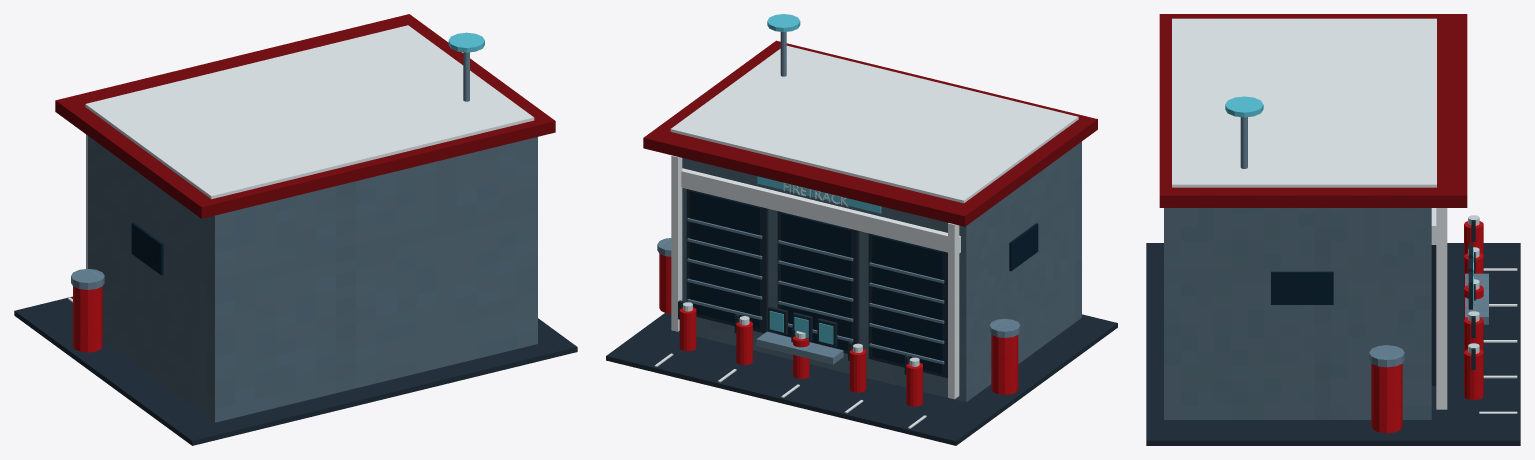
The model's file is firetrack-station.glb.
3 views of the same model, side by side, from view 1: azimuth 30°, elevation 25°; view 2: azimuth 150°, elevation 25°; view 3: azimuth 270°, elevation 25° (orthographic). The views are drawn at different scales.
Visible parts, largest first — view 1: ConcreteHall, Batch_FireTrack_ROOT_JD_white, RedCanopy, Batch_FireTrack_ROOT_JD_dark, Batch_FireTrack_ROOT_JD_red_bright, Batch_FireTrack_ROOT_JD_glass, Batch_FireTrack_ROOT_JD_silver, Batch_FireTrack_ROOT_JD_cyan; view 2: Batch_FireTrack_ROOT_JD_white, ConcreteHall, Batch_FireTrack_ROOT_JD_dark, Batch_FireTrack_ROOT_JD_glass, RedCanopy, Batch_FireTrack_ROOT_JD_silver, Batch_FireTrack_ROOT_JD_red_bright, Batch_FireTrack_ROOT_JD_cyan, DigitalSignScreen; view 3: ConcreteHall, Batch_FireTrack_ROOT_JD_white, Batch_FireTrack_ROOT_JD_dark, RedCanopy, Batch_FireTrack_ROOT_JD_red_bright, Batch_FireTrack_ROOT_JD_glass, Batch_FireTrack_ROOT_JD_silver, Batch_FireTrack_ROOT_JD_cyan, Batch_FireTrack_ROOT_JD_chrome.
Part boxes in pixels (bbox=[...]): ConcreteHall: bbox=[88, 136, 537, 422]; Batch_FireTrack_ROOT_JD_white: bbox=[68, 25, 534, 302]; RedCanopy: bbox=[55, 14, 555, 218]; Batch_FireTrack_ROOT_JD_dark: bbox=[14, 296, 577, 445]; Batch_FireTrack_ROOT_JD_red_bright: bbox=[73, 286, 102, 352]; Batch_FireTrack_ROOT_JD_glass: bbox=[131, 223, 163, 275]; Batch_FireTrack_ROOT_JD_silver: bbox=[71, 52, 469, 289]; Batch_FireTrack_ROOT_JD_cyan: bbox=[448, 32, 484, 52]; Batch_FireTrack_ROOT_JD_white: bbox=[654, 45, 1078, 428]; ConcreteHall: bbox=[678, 141, 1081, 402]; Batch_FireTrack_ROOT_JD_dark: bbox=[606, 189, 1117, 445]; Batch_FireTrack_ROOT_JD_glass: bbox=[690, 190, 1038, 373]; RedCanopy: bbox=[643, 40, 1097, 226]; Batch_FireTrack_ROOT_JD_silver: bbox=[657, 32, 1020, 364]; Batch_FireTrack_ROOT_JD_red_bright: bbox=[659, 254, 1018, 406]; Batch_FireTrack_ROOT_JD_cyan: bbox=[767, 14, 833, 344]; DigitalSignScreen: bbox=[757, 176, 881, 213]; ConcreteHall: bbox=[1164, 208, 1431, 419]; Batch_FireTrack_ROOT_JD_white: bbox=[1172, 18, 1517, 413]; Batch_FireTrack_ROOT_JD_dark: bbox=[1146, 220, 1520, 445]; RedCanopy: bbox=[1159, 14, 1467, 207]; Batch_FireTrack_ROOT_JD_red_bright: bbox=[1371, 221, 1483, 433]; Batch_FireTrack_ROOT_JD_glass: bbox=[1271, 271, 1333, 304]; Batch_FireTrack_ROOT_JD_silver: bbox=[1240, 117, 1488, 367]; Batch_FireTrack_ROOT_JD_cyan: bbox=[1225, 96, 1473, 305]; Batch_FireTrack_ROOT_JD_chrome: bbox=[1468, 215, 1479, 353].
Size of the model in its own units: 10.76 by 7.63 by 8.4.
Materials: 9 (5 with a texture image).
